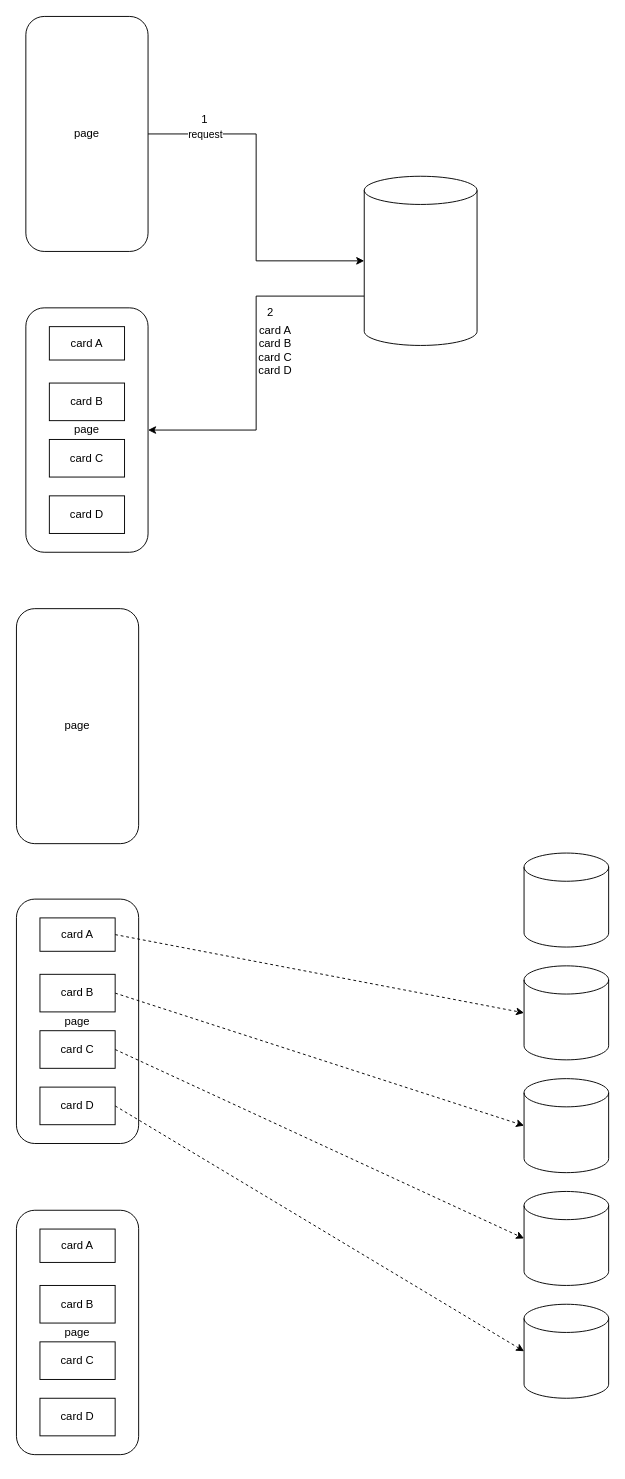
Some shapes in this 625 by 1479 pixel diagram are drawn without their labels. The shapes that lost their labels are listed below. From the top down, each one's centre as x and y in pixels, then its label:
At [420,260]: "backend_interface".
At [566,899]: "page_service".
At [566,1012]: "service_A".
At [566,1125]: "service_B".
At [566,1238]: "service_C".
At [566,1350]: "service_D".
